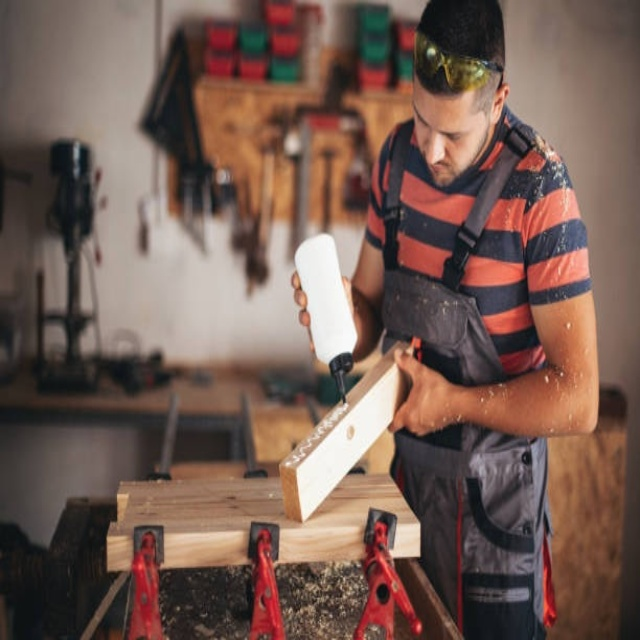Sin_gafas: (408, 96, 468, 143)
Sin_guantes: (292, 267, 365, 368), (388, 342, 454, 438)
Sin_mascara: (420, 147, 457, 188)
